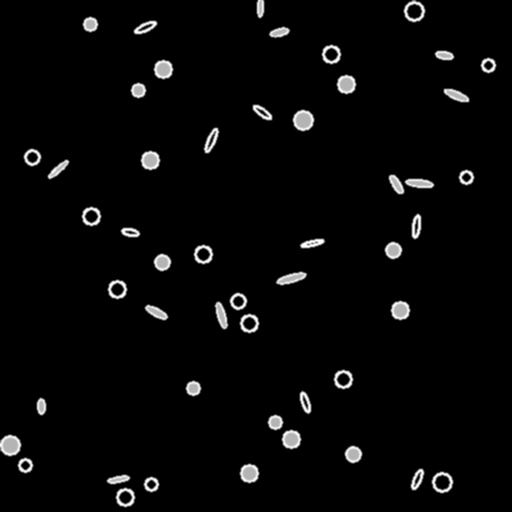pseudomonas: (47, 159, 69, 179), (443, 87, 469, 103), (214, 301, 228, 329), (277, 271, 305, 285), (203, 128, 219, 152), (133, 19, 157, 35), (252, 103, 272, 121), (145, 304, 167, 320), (388, 174, 404, 194), (410, 468, 424, 490), (406, 178, 432, 188), (299, 392, 311, 412), (269, 26, 289, 38), (301, 238, 323, 248), (411, 215, 421, 237), (121, 227, 139, 237), (107, 475, 129, 483), (436, 51, 452, 59), (257, 0, 263, 17), (38, 398, 44, 414)
synechocystis: (294, 111, 312, 129), (405, 2, 423, 20), (433, 473, 451, 491), (1, 436, 19, 454), (335, 371, 351, 387), (155, 61, 171, 77), (195, 246, 211, 262), (338, 76, 354, 92), (241, 465, 257, 481), (283, 431, 299, 447), (392, 302, 408, 318), (241, 315, 257, 331), (323, 46, 339, 62), (117, 489, 133, 505), (83, 208, 99, 224), (109, 281, 125, 297), (142, 152, 158, 168), (346, 447, 360, 461), (386, 243, 400, 257), (155, 255, 169, 269), (25, 150, 39, 164), (231, 294, 245, 308), (460, 171, 472, 183), (482, 59, 494, 71), (269, 416, 281, 428), (19, 459, 31, 471), (145, 478, 157, 490), (132, 84, 144, 96), (187, 382, 199, 394), (84, 18, 96, 30)
